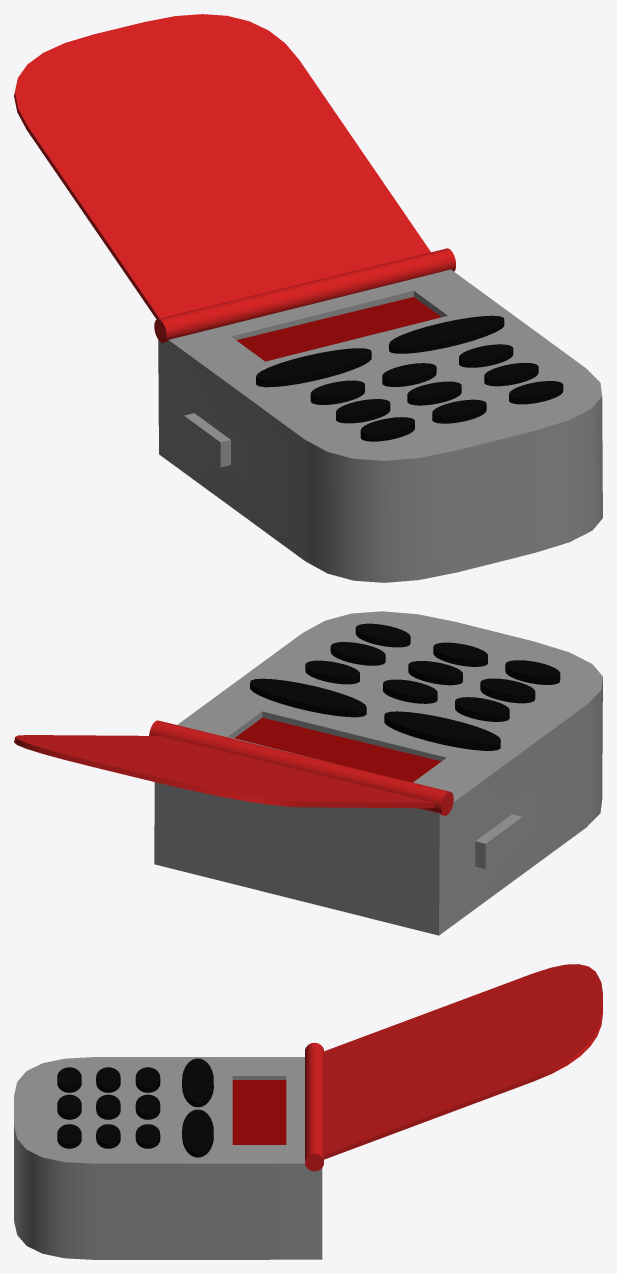
The model's file is Toy2.FBX.
3 views of the same model, one above another, from view 1: azimuth 30°, elevation 25°; view 2: azimuth 150°, elevation 25°; view 3: azimuth 270°, elevation 25° (orthographic). The views are drawn at different scales.
Visible parts, largest first — view 1: Box002; view 2: Box002; view 3: Box002.
Boxes of the visible parts, bbox=[...] form: Box002: bbox=[14, 14, 602, 582]; Box002: bbox=[14, 611, 602, 935]; Box002: bbox=[14, 964, 602, 1259].
Size of the model in its own units: 53.86 by 45.51 by 118.
